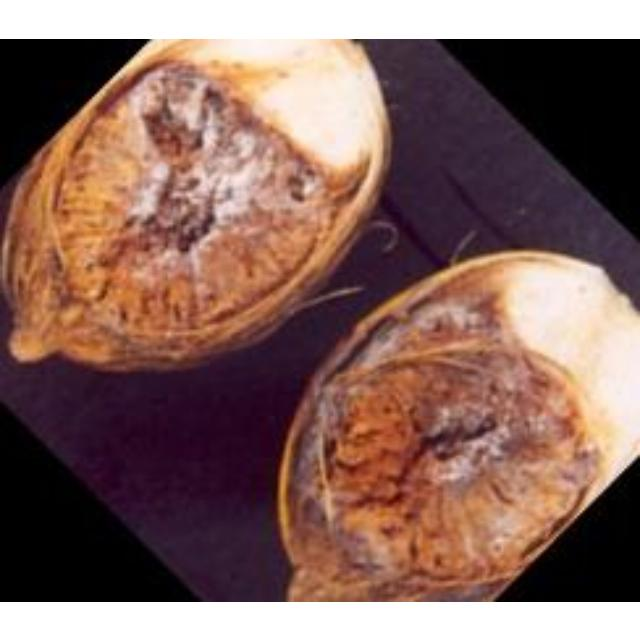damaged: (0, 38, 393, 374), (275, 248, 637, 599)
